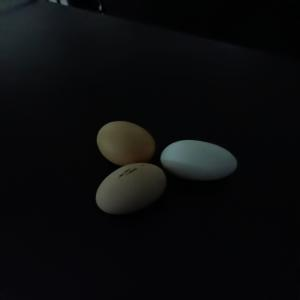Egg: (92, 156, 174, 224), (92, 113, 161, 170), (162, 136, 236, 183)
